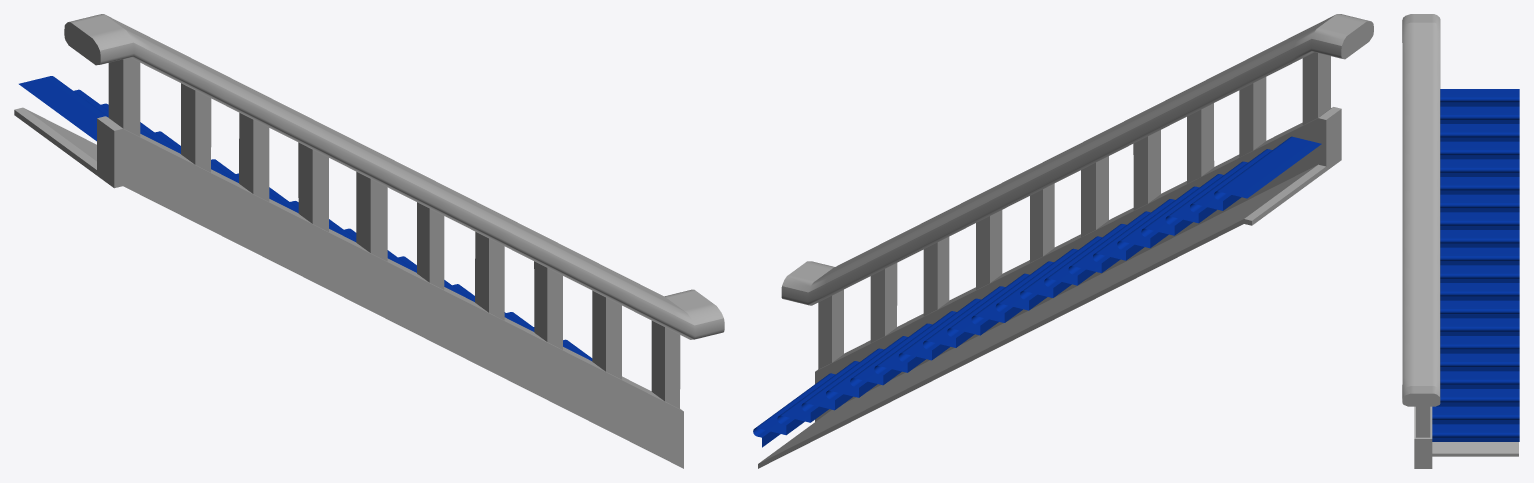
The model's file is Staircase_low.fbx.
3 renders of one model, left to right at view 1: azimuth 30°, elevation 25°; view 2: azimuth 150°, elevation 25°; view 3: azimuth 270°, elevation 25°, orthographic. The views are drawn at different scales.
Visible parts, largest first — view 1: Stairs12; view 2: Stairs12; view 3: Stairs12.
Part boxes in pixels (x1,y1,x2,y2): Stairs12: (14,14,724,468); Stairs12: (753,14,1373,468); Stairs12: (1402,14,1519,468).
Size of the model in its own units: 31.86 by 28.2 by 9.89.
